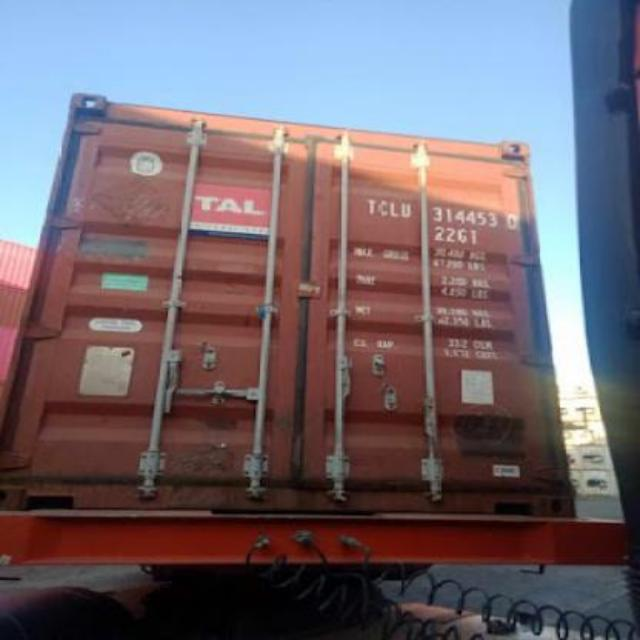0: (504, 209, 520, 229)
1: (446, 194, 454, 223)
3: (431, 196, 444, 222), (488, 204, 500, 232)
4: (466, 197, 479, 230), (454, 203, 466, 227)
5: (476, 206, 488, 230)
C: (376, 192, 388, 218)
L: (388, 194, 400, 222)
T: (364, 193, 378, 219)
U: (400, 196, 412, 224)
